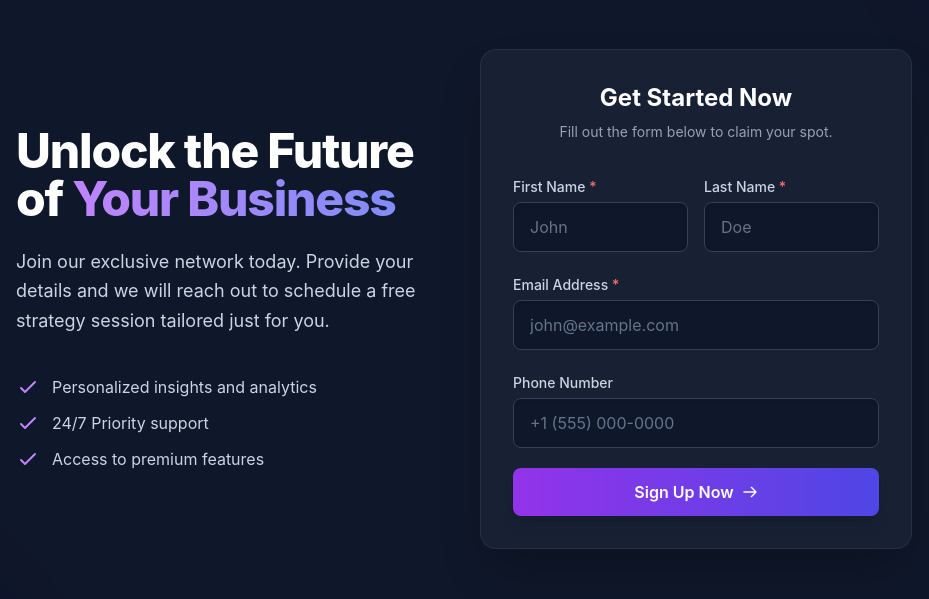
Test: App – successful form submission › shows the success banner after a successful submission
The image size is (929, 599).
Step 1. Type "Alice" into the field with id "firstName" → x=600, y=227, box [513,202,688,252]
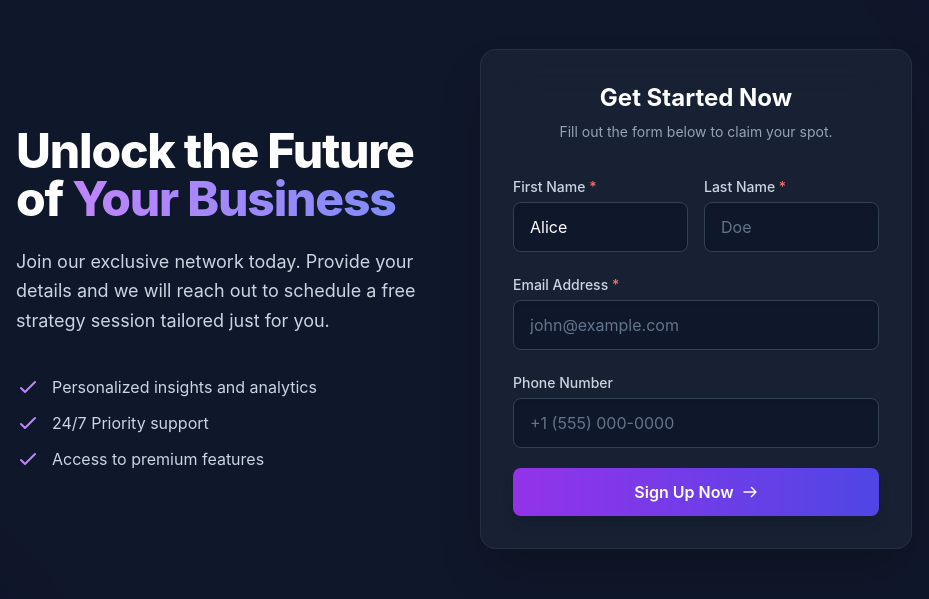
Step 2. Type "Smith" into the field with id "lastName" → x=792, y=227, box [704,202,879,252]
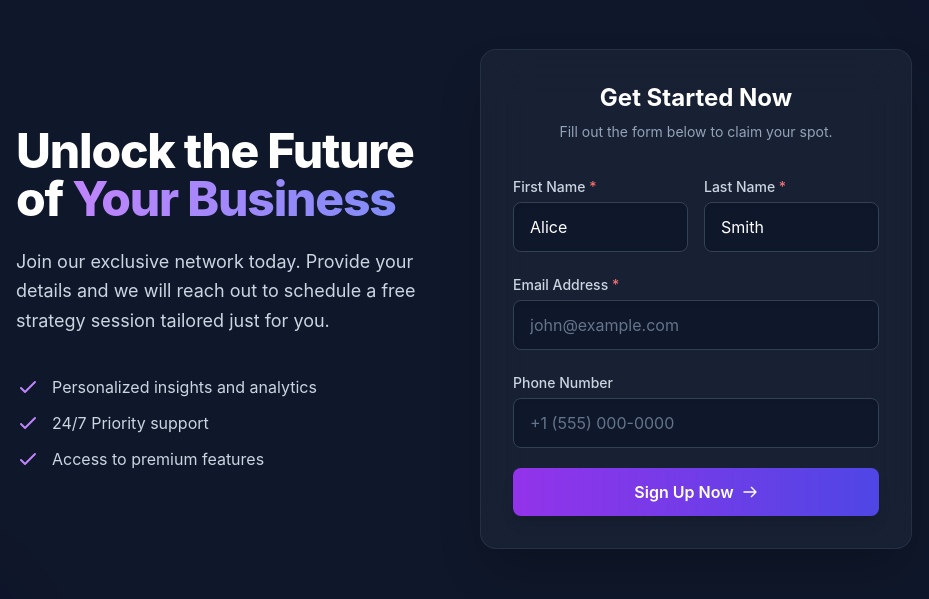
Step 3. Type "alice@example.com" into the field with id "email" → x=696, y=325, box [513,300,879,350]
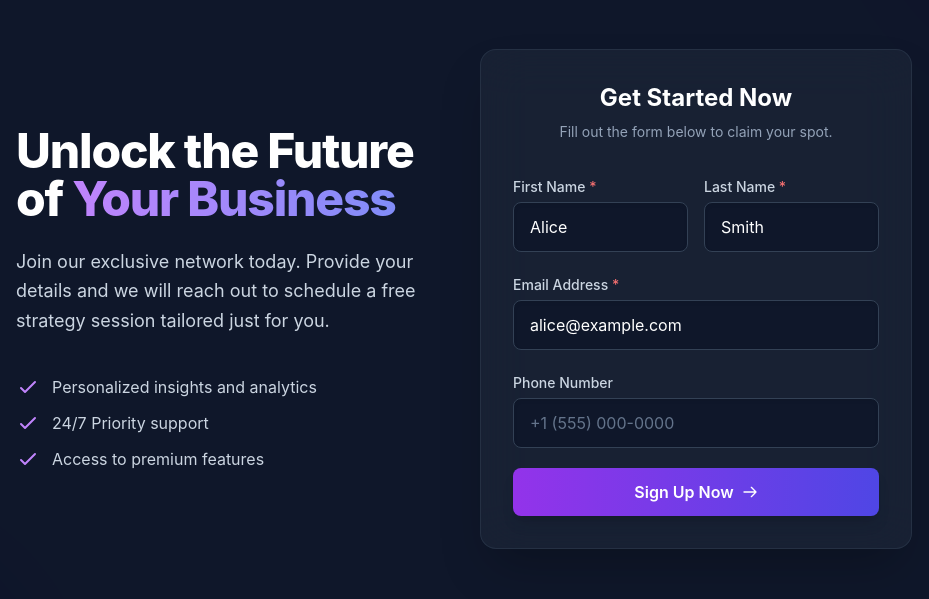
Step 4. Submit the form, box [513,174,879,516]
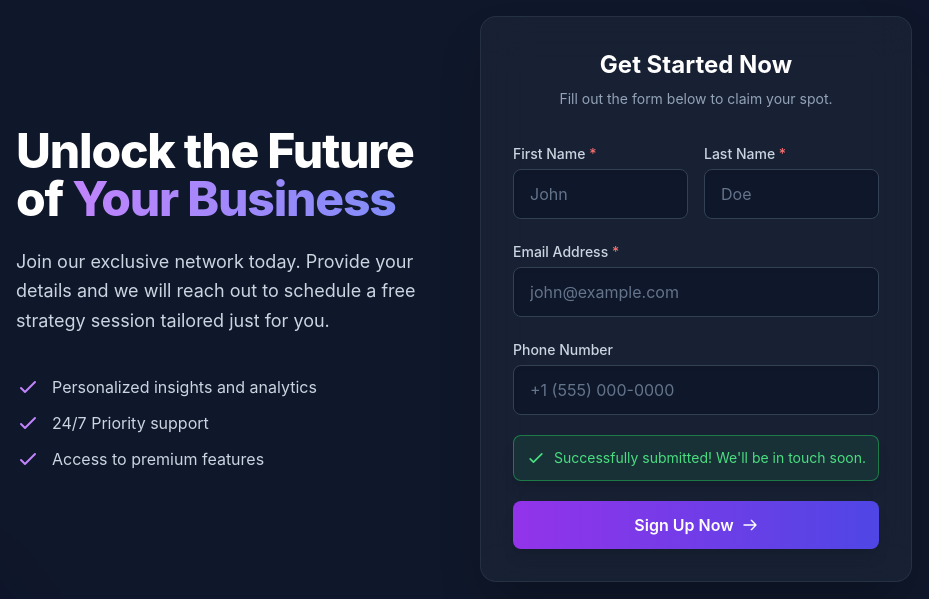
Expected: the text "Successfully submitted" is shown, [554,449,866,466]
